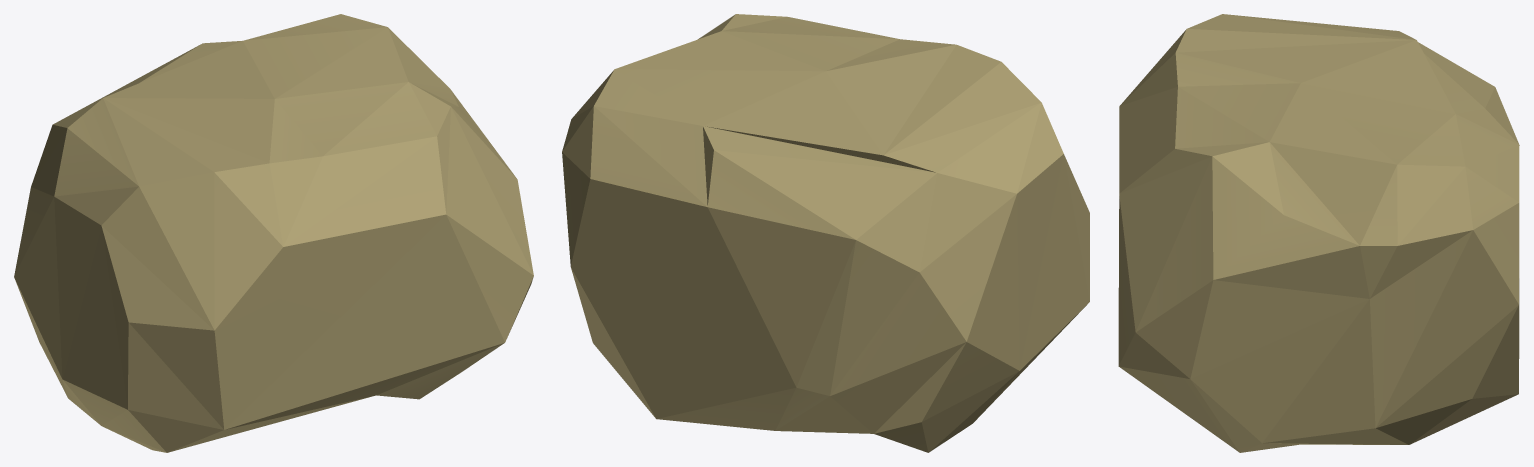
File: SM_small_rock_44.fbx
The picture shows the model from 3 angles, left to right: view 1: azimuth 30°, elevation 25°; view 2: azimuth 150°, elevation 25°; view 3: azimuth 270°, elevation 25°; orthographic projection.
Visible parts, largest first — view 1: small_rock_44; view 2: small_rock_44; view 3: small_rock_44.
Part boxes in pixels (x1,y1,x2,y2): small_rock_44: (14, 14, 533, 452); small_rock_44: (562, 14, 1089, 452); small_rock_44: (1118, 14, 1519, 452).
Size of the model in its own units: 82.66 by 58.32 by 69.38.
